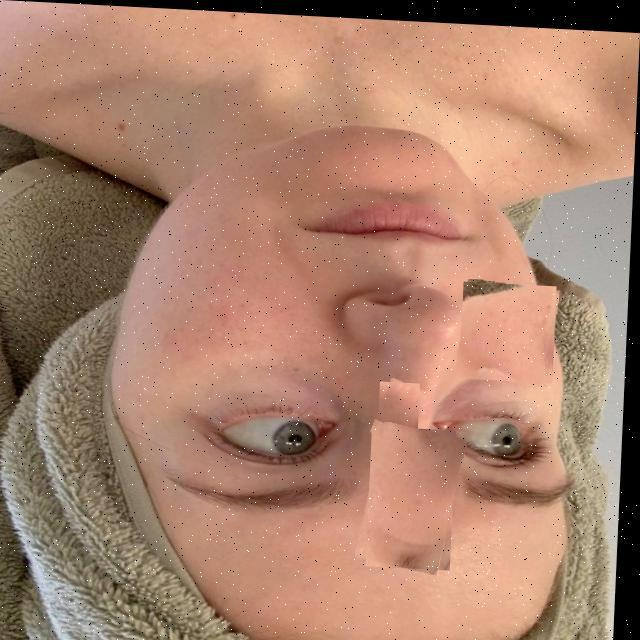redness: (360, 417, 471, 570), (459, 274, 562, 381), (374, 374, 431, 442)
